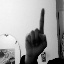d: (23, 6, 48, 57)
